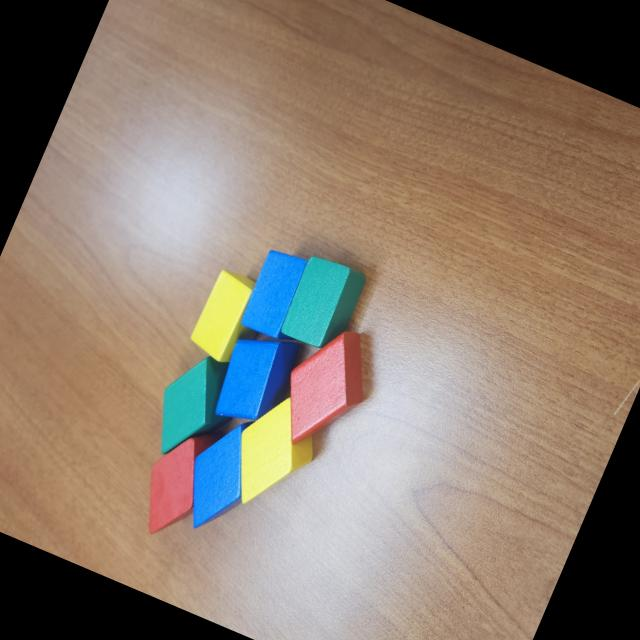blue: (167, 404, 274, 542), (206, 320, 312, 440), (236, 245, 310, 342)
green: (140, 344, 252, 474), (273, 250, 373, 360)
red: (263, 314, 387, 464), (127, 416, 225, 546)
yellow: (215, 382, 332, 522), (186, 268, 262, 366)
